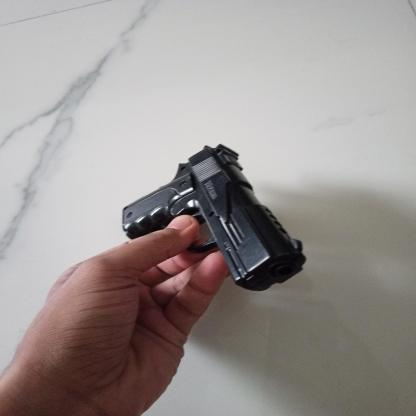handgun: (119, 144, 306, 294)
